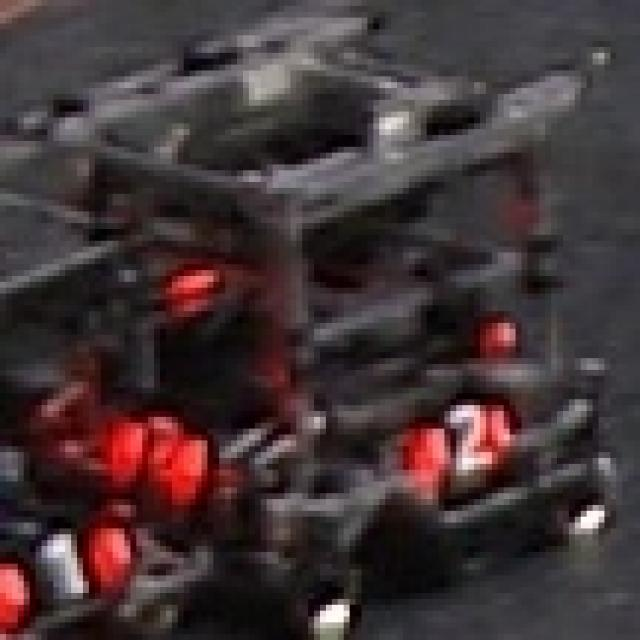R2: (406, 388, 518, 482)
